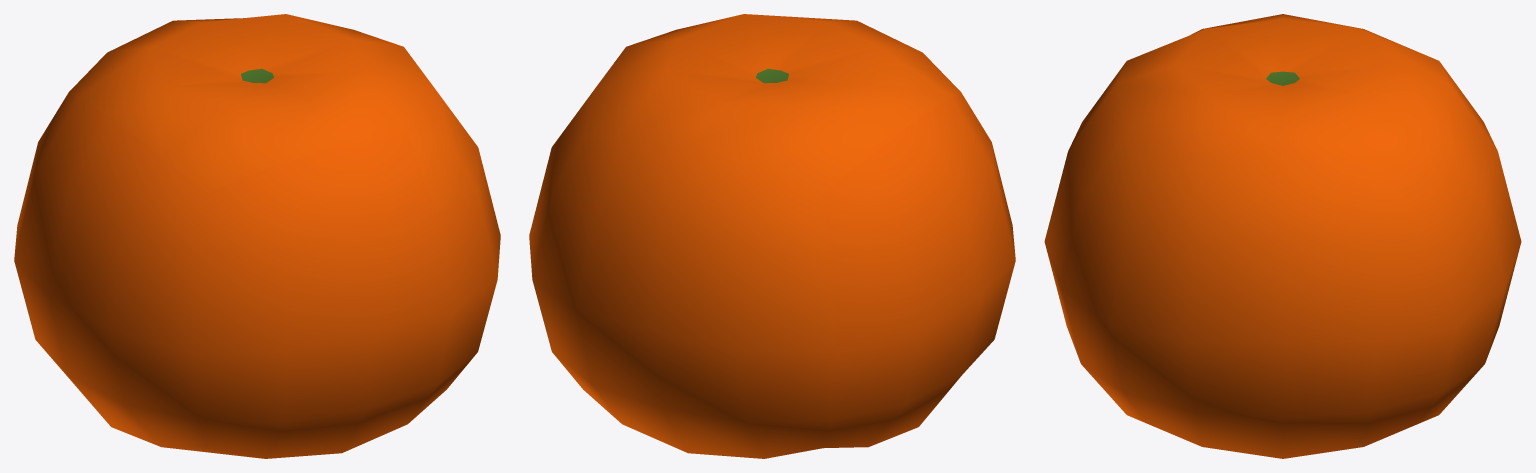
File: Orange.glb
3 views of the same model, side by side, from view 1: azimuth 30°, elevation 25°; view 2: azimuth 150°, elevation 25°; view 3: azimuth 270°, elevation 25° (orthographic).
Parts seen in each view (by area): view 1: Orange; view 2: Orange; view 3: Orange.
Boxes of the visible parts, bbox=[...] form: Orange: bbox=[14, 14, 500, 458]; Orange: bbox=[529, 14, 1015, 458]; Orange: bbox=[1044, 14, 1521, 458].
Bounding box in the file's own units: 0.0981 × 0.0811 × 0.0981.
1 material, 1 textured.
